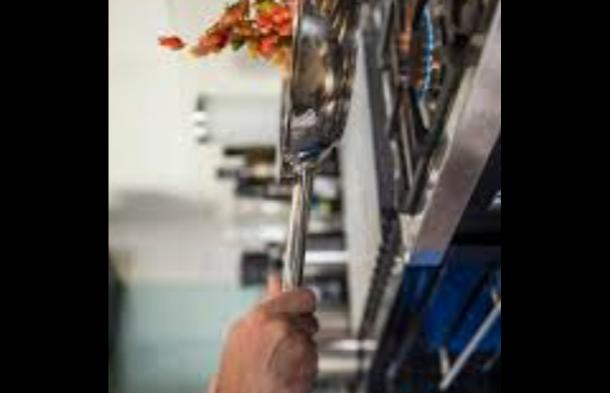controlled_fire: (385, 0, 449, 120)
